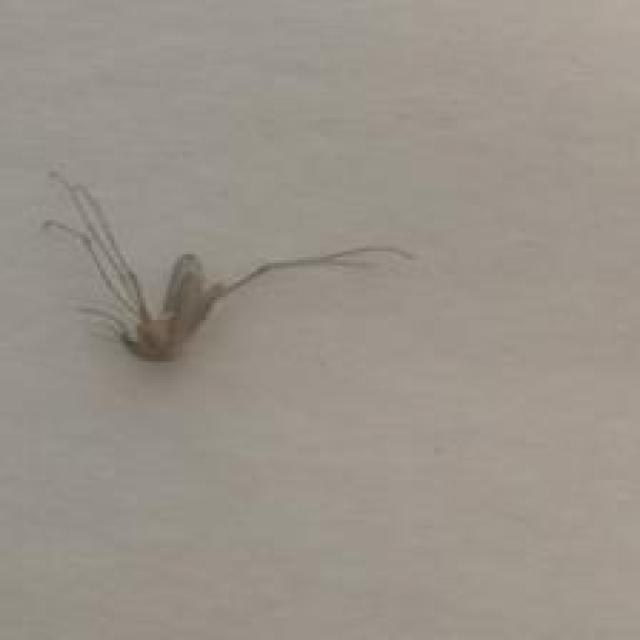Culex: (40, 168, 417, 363)
